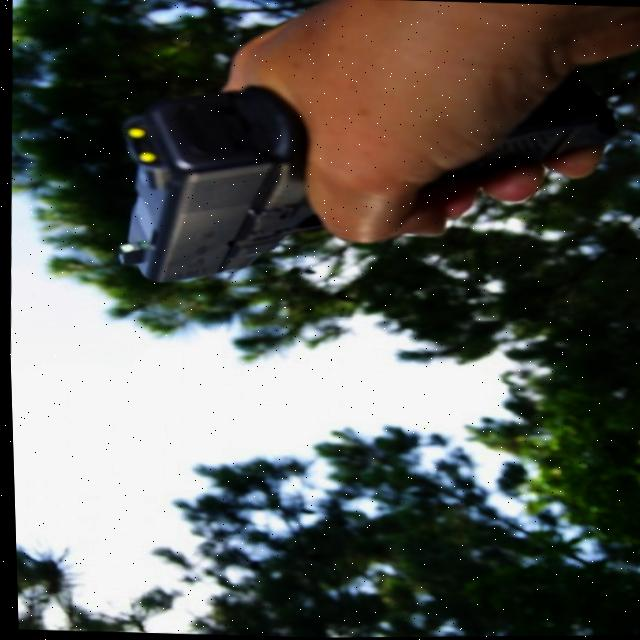pistol: (103, 80, 331, 290)
